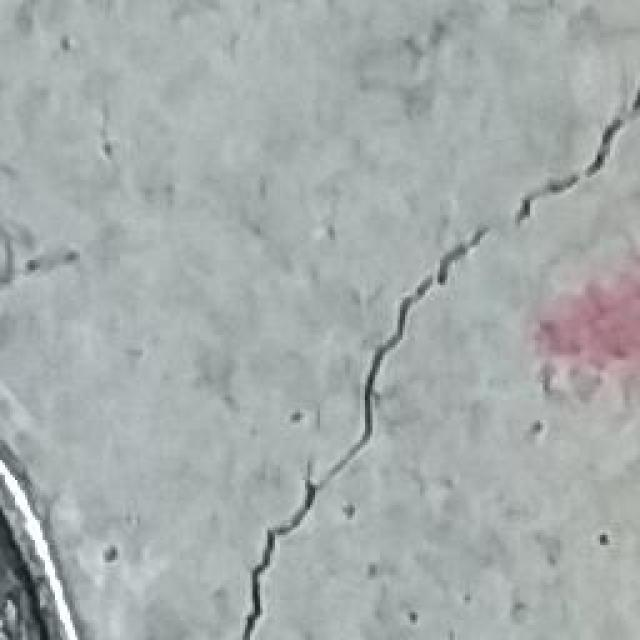Diagonal: (108, 91, 640, 640)
